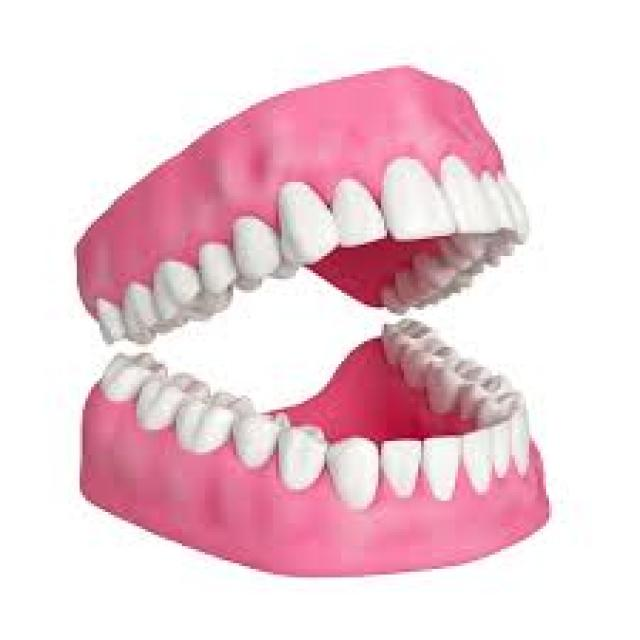tooth: (384, 154, 449, 248), (278, 179, 336, 273), (438, 157, 501, 236), (438, 372, 518, 430), (384, 324, 452, 390), (324, 441, 381, 503), (330, 179, 381, 245), (282, 421, 322, 501), (230, 216, 282, 276), (384, 441, 430, 503), (148, 370, 193, 429), (424, 441, 466, 503), (151, 259, 202, 310), (100, 353, 145, 404), (245, 407, 276, 475), (466, 432, 501, 490), (504, 412, 540, 467), (122, 284, 160, 333), (196, 239, 234, 287), (91, 302, 128, 336)
